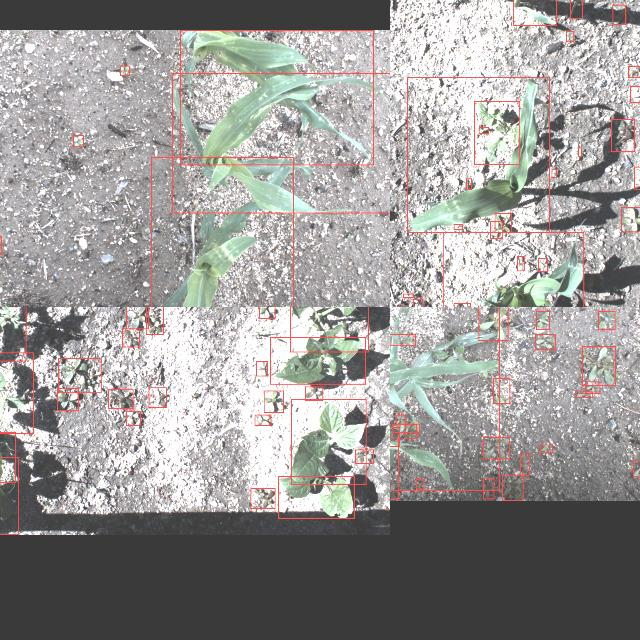crop: (172, 72, 390, 212), (180, 29, 374, 164), (408, 76, 550, 232), (152, 157, 294, 307), (390, 307, 499, 490), (442, 232, 583, 307), (292, 398, 366, 484), (270, 336, 366, 384), (290, 307, 368, 351), (278, 476, 354, 518), (0, 352, 33, 433), (0, 457, 19, 534), (0, 307, 26, 360), (513, 0, 557, 24), (0, 432, 15, 482), (390, 437, 398, 498), (570, 0, 582, 17)
weed: (474, 100, 520, 163), (58, 358, 102, 392), (582, 346, 616, 384), (478, 307, 507, 340), (612, 119, 634, 151), (483, 437, 509, 459), (502, 476, 524, 500), (108, 388, 134, 408), (251, 488, 275, 508), (621, 206, 640, 231), (126, 307, 148, 328), (146, 307, 163, 334), (58, 388, 78, 410), (264, 390, 284, 412), (492, 378, 510, 402), (494, 212, 512, 232), (148, 387, 166, 407), (598, 310, 616, 330), (122, 328, 140, 346), (535, 333, 555, 349), (612, 4, 626, 24), (390, 333, 415, 344), (305, 386, 323, 400), (355, 449, 373, 463), (536, 311, 550, 329), (392, 423, 420, 432), (520, 454, 530, 476), (491, 220, 503, 238), (484, 478, 494, 498), (126, 411, 140, 425), (255, 414, 271, 426), (256, 360, 268, 376), (390, 426, 399, 446), (259, 307, 275, 318), (631, 86, 640, 102), (538, 258, 548, 272), (406, 424, 416, 438), (586, 382, 600, 392), (628, 65, 640, 76), (634, 166, 640, 188), (73, 134, 83, 146), (633, 460, 640, 476), (540, 443, 552, 452), (120, 65, 130, 75), (396, 414, 406, 424), (518, 256, 524, 270), (566, 31, 574, 41), (416, 479, 424, 489), (413, 299, 422, 307), (453, 303, 470, 307), (576, 392, 592, 396), (466, 178, 472, 188), (479, 127, 489, 133), (453, 224, 462, 230), (403, 293, 413, 297), (578, 148, 582, 156), (552, 169, 556, 177), (397, 306, 406, 307)
